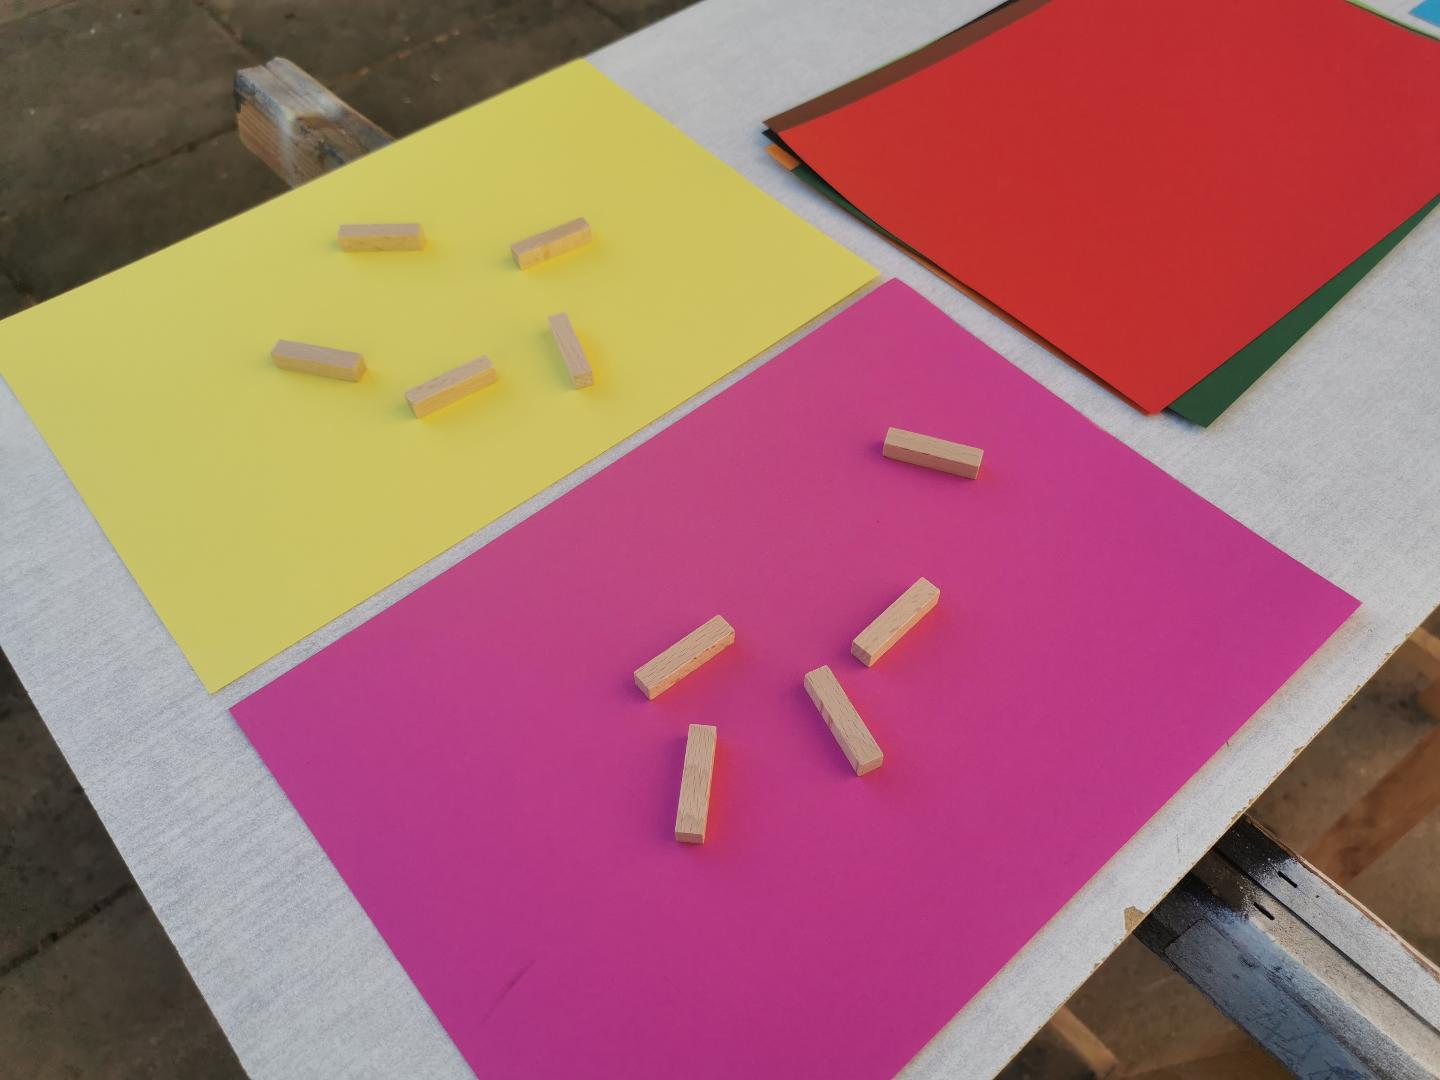jenga: (804, 667, 883, 776), (636, 616, 734, 700), (853, 580, 939, 667), (405, 357, 498, 416), (675, 726, 718, 844), (883, 428, 984, 478), (511, 217, 591, 270), (273, 340, 365, 382), (549, 312, 593, 388), (338, 222, 425, 251)
